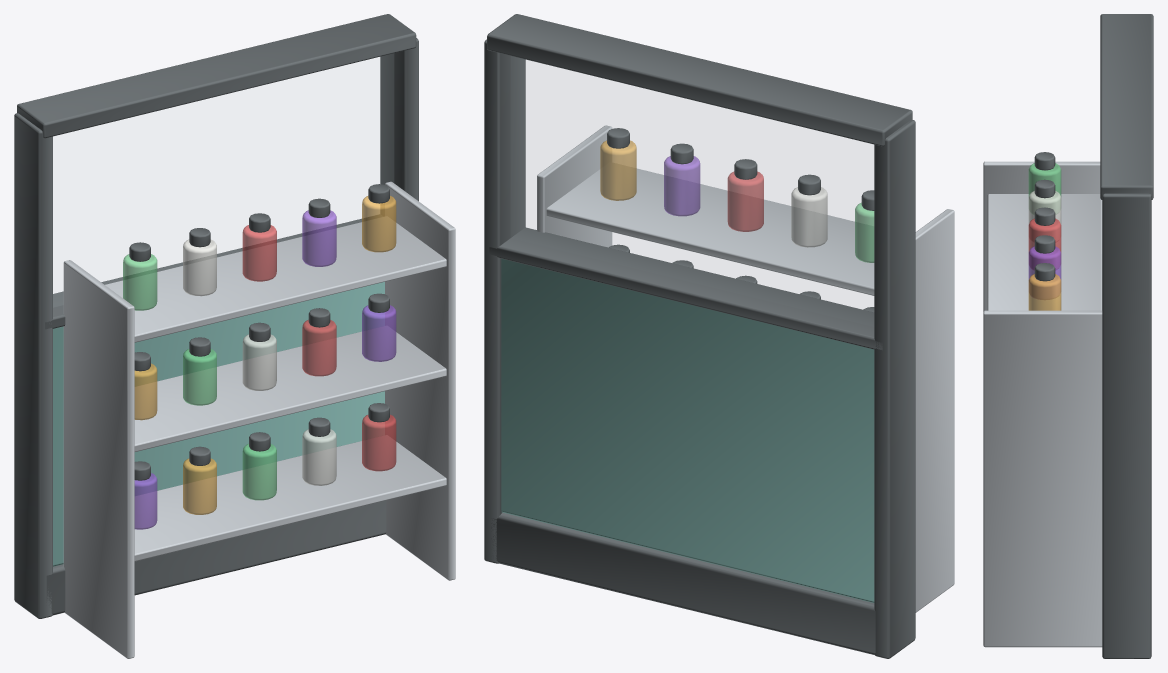
The model's file is sala_estanteria.glb.
3 renders of one model, left to right at view 1: azimuth 30°, elevation 25°; view 2: azimuth 150°, elevation 25°; view 3: azimuth 270°, elevation 25°, orthographic. The views are drawn at different scales.
Visible parts, largest first — view 1: pared_vidrio, estante_lado-1, pared_panel, estante2, pared_perfil-0.49, estante0, estante1, estante_lado1, pared_remate, pared_zocalo, pared_perfil0.49, frasco03 (+15 smaller); view 2: pared_panel, pared_vidrio, pared_perfil-0.49, estante2, pared_zocalo, pared_remate, estante_lado-1, pared_canto, pared_perfil0.49, estante_lado1, frasco23, frasco21 (+3 smaller); view 3: estante_lado1, pared_perfil0.49, estante2, pared_remate, estante_lado-1, frasco23, frasco24, frasco20, frasco22, frasco21, frasco23_tapon, frasco20_tapon (+3 smaller).
Boxes of the visible parts, bbox=[...] form: pared_vidrio: bbox=[53, 54, 393, 306]; estante_lado-1: bbox=[63, 260, 134, 658]; pared_panel: bbox=[53, 282, 384, 566]; estante2: bbox=[105, 216, 446, 342]; pared_perfil-0.49: bbox=[14, 113, 52, 618]; estante0: bbox=[134, 435, 446, 561]; estante1: bbox=[134, 326, 446, 451]; estante_lado1: bbox=[385, 181, 455, 580]; pared_remate: bbox=[17, 14, 416, 138]; pared_zocalo: bbox=[46, 500, 386, 615]; pared_perfil0.49: bbox=[380, 38, 418, 215]; frasco03: bbox=[302, 429, 336, 485]; pared_panel: bbox=[501, 258, 874, 602]; pared_vidrio: bbox=[511, 56, 873, 325]; pared_perfil-0.49: bbox=[874, 119, 915, 658]; estante2: bbox=[546, 162, 874, 295]; pared_zocalo: bbox=[491, 512, 875, 654]; pared_remate: bbox=[487, 14, 912, 146]; estante_lado-1: bbox=[915, 209, 954, 612]; pared_canto: bbox=[489, 227, 882, 350]; pared_perfil0.49: bbox=[484, 39, 525, 563]; estante_lado1: bbox=[537, 125, 612, 247]; frasco23: bbox=[664, 156, 700, 216]; frasco21: bbox=[791, 187, 827, 247]; estante_lado1: bbox=[983, 310, 1102, 647]; pared_perfil0.49: bbox=[1102, 193, 1151, 658]; estante2: bbox=[987, 194, 1102, 310]; pared_remate: bbox=[1100, 14, 1153, 199]; estante_lado-1: bbox=[983, 161, 1100, 311]; frasco23: bbox=[1028, 246, 1061, 299]; frasco24: bbox=[1028, 274, 1061, 310]; frasco20: bbox=[1028, 163, 1061, 214]; frasco22: bbox=[1028, 218, 1061, 269]; frasco21: bbox=[1028, 190, 1061, 241]; frasco23_tapon: bbox=[1034, 235, 1055, 253]; frasco20_tapon: bbox=[1034, 152, 1055, 170].
Size of the model in its own units: 1.02 by 1.27 by 0.415.
